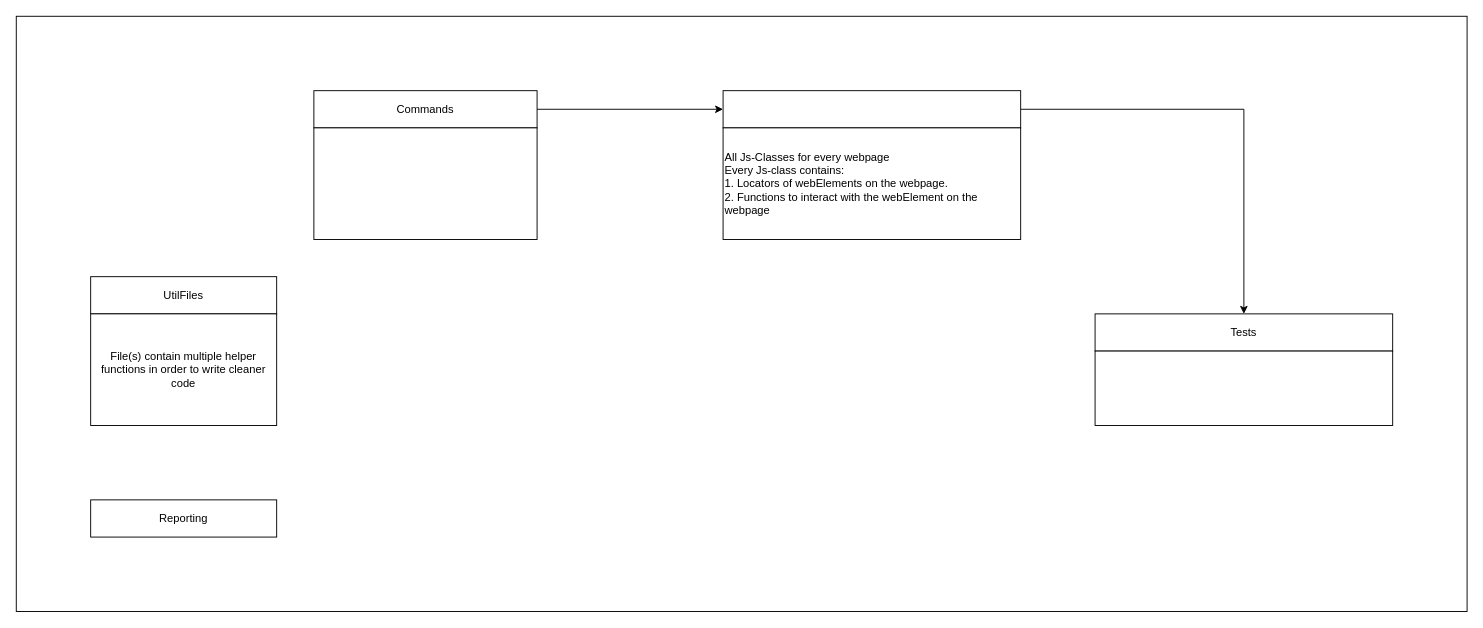
This 1483x628 diagram has some shape labels left out. The shapes that lost their labels are listed below. From the top down, each one's centre as x and y in pixels, then its label:
At point (871, 109): "Page Object Model (POM)".
At point (425, 183): "Class containing user-defined functions using wdio-functions".
At point (1243, 387): "contains all testcases for the web-application".
